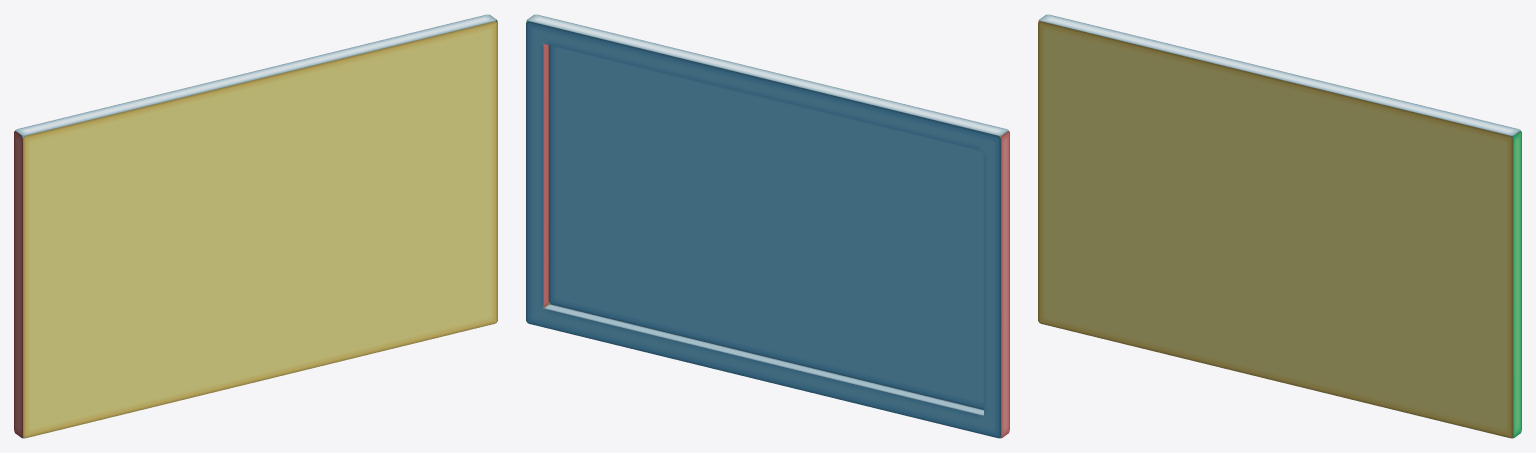
File: monitor_big.obj
3 views of the same model, side by side, from view 1: azimuth 30°, elevation 25°; view 2: azimuth 150°, elevation 25°; view 3: azimuth 330°, elevation 25° (orthographic).
Parts seen in each view (by area): view 1: body; view 2: body; view 3: body.
Part boxes in pixels (x1,y1,x2,y2): body: (14, 14, 497, 438); body: (526, 14, 1009, 438); body: (1038, 14, 1521, 438).
Size of the model in its own units: 2.88 by 1.75 by 0.0938.
1 material, 1 textured.
